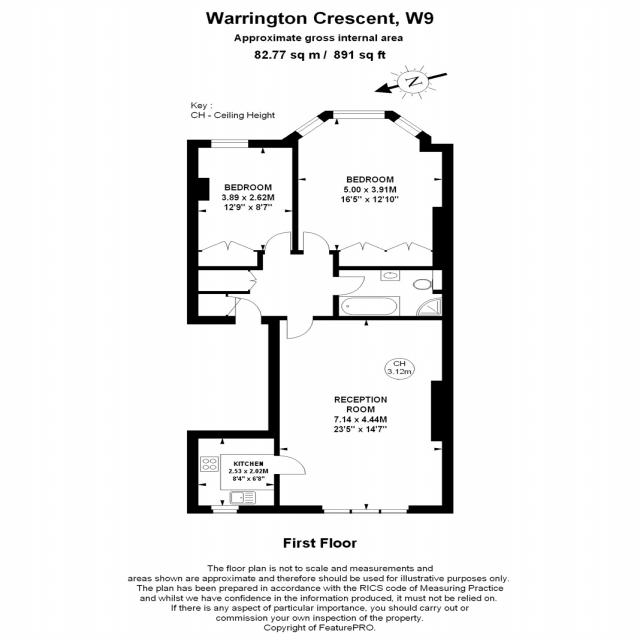DOOR: (234, 297, 262, 324), (301, 230, 331, 255), (285, 316, 314, 340), (263, 231, 292, 255), (274, 454, 307, 475), (333, 276, 366, 296)
ROOM: (268, 316, 454, 514), (292, 110, 454, 271), (187, 139, 299, 270), (187, 430, 308, 514)
WINDOW: (392, 115, 426, 139), (293, 115, 326, 138), (331, 110, 386, 120), (210, 139, 249, 148), (210, 505, 239, 514), (351, 509, 380, 514), (324, 509, 350, 514), (381, 509, 407, 514)
